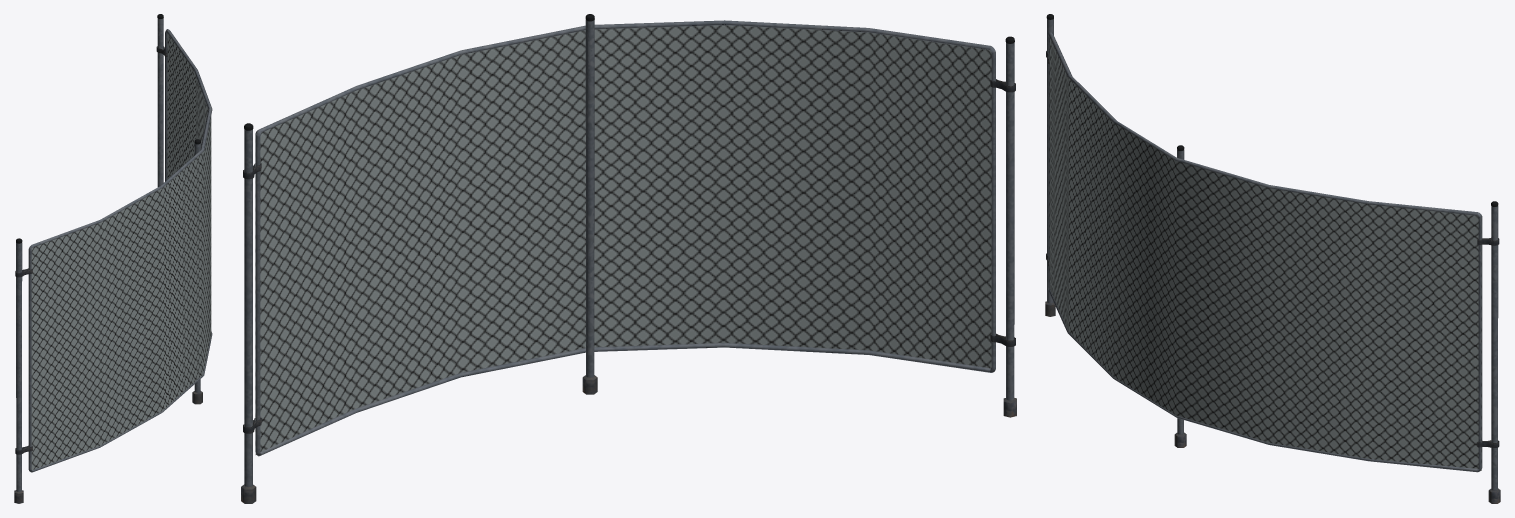
File: Fence_B_D.fbx
3 renders of one model, left to right at view 1: azimuth 30°, elevation 25°; view 2: azimuth 150°, elevation 25°; view 3: azimuth 270°, elevation 25°, orthographic. The views are drawn at different scales.
Parts seen in each view (by area): view 1: Fence_B_D; view 2: Fence_B_D; view 3: Fence_B_D.
Part boxes in pixels (x1,y1,x2,y2): Fence_B_D: (14, 14, 212, 503); Fence_B_D: (241, 14, 1016, 503); Fence_B_D: (1045, 14, 1500, 503).
Size of the model in its own units: 296 by 216 by 297.
